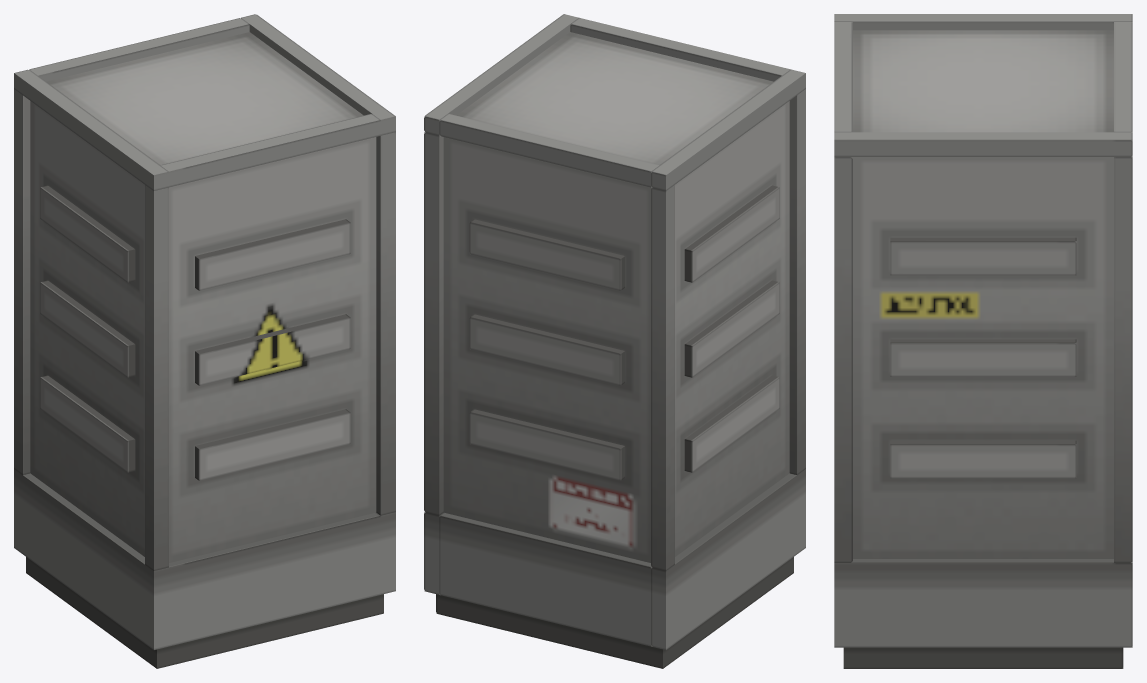
The model's file is electric_box_bin.obj.
3 renders of one model, left to right at view 1: azimuth 30°, elevation 25°; view 2: azimuth 150°, elevation 25°; view 3: azimuth 270°, elevation 25°, orthographic. The views are drawn at different scales.
Visible parts, largest first — view 1: nx, nF, nC, nI, nH, nJ, nQ, nR, nS, nA, ny, nU (+5 smaller); view 2: nx, nD, nC, nJ, nG, nI, nK, nL, nM, nB, ny, nU (+5 smaller); view 3: nx, nE, nG, nH, nz, nN, nP, nO, ny, nB, nA.
Part boxes in pixels (<box>): nx: <box>26,32,383,668</box>; nF: <box>169,512,380,646</box>; nC: <box>14,469,168,649</box>; nI: <box>145,185,168,570</box>; nH: <box>376,132,395,515</box>; nJ: <box>14,89,30,474</box>; nQ: <box>195,219,350,290</box>; nR: <box>195,314,350,385</box>; nS: <box>195,409,350,480</box>; nA: <box>160,114,380,187</box>; ny: <box>14,69,168,190</box>; nU: <box>40,280,135,377</box>; nx: <box>436,32,793,668</box>; nD: <box>439,512,651,646</box>; nC: <box>651,469,805,649</box>; nJ: <box>651,185,674,570</box>; nG: <box>424,132,443,515</box>; nI: <box>789,89,805,474</box>; nK: <box>469,219,624,290</box>; nL: <box>469,314,624,385</box>; nM: <box>469,409,624,480</box>; nB: <box>439,113,659,187</box>; ny: <box>651,69,805,190</box>; nU: <box>684,280,779,377</box>; nx: <box>843,30,1123,668</box>; nE: <box>834,559,1132,647</box>; nG: <box>1114,156,1132,562</box>; nH: <box>834,157,852,562</box>; nz: <box>834,132,1132,156</box>; nN: <box>890,237,1076,275</box>; nP: <box>890,440,1076,478</box>; nO: <box>890,339,1076,376</box>; ny: <box>834,14,1132,30</box>; nB: <box>1114,22,1132,132</box>; nA: <box>834,22,852,132</box>.
Bounding box in the file's own units: 1 × 1.97 × 1.
Materials: 1 (1 with a texture image).
